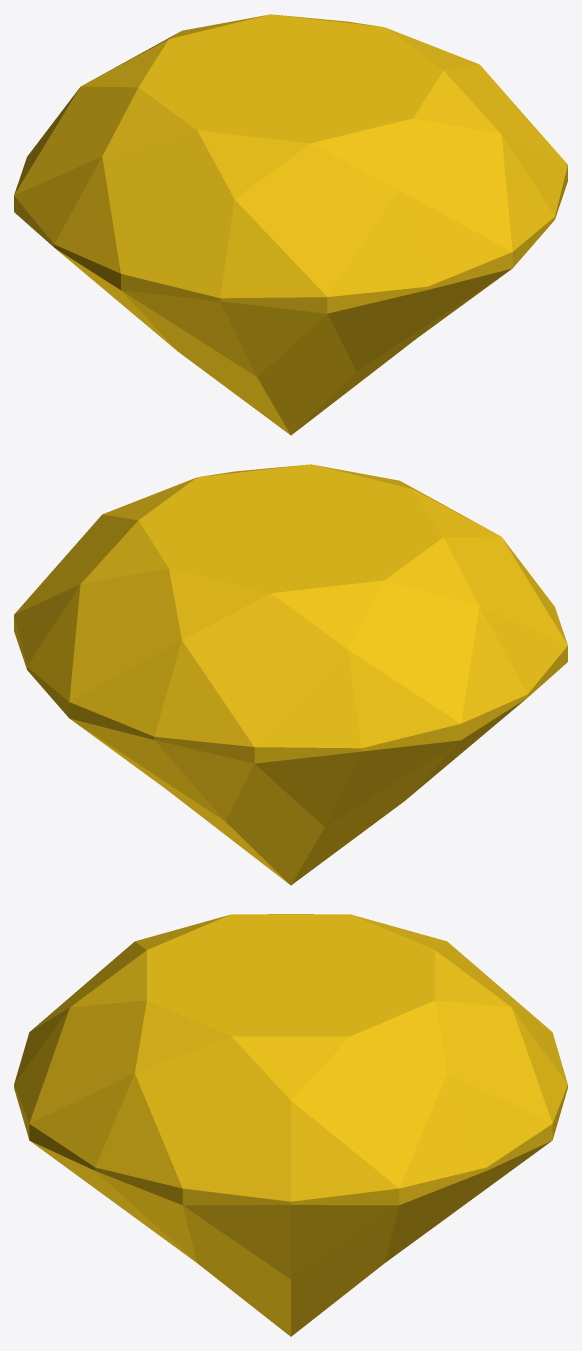
The model's file is yellowGem.fbx.
3 renders of one model, top to bottom at view 1: azimuth 30°, elevation 25°; view 2: azimuth 150°, elevation 25°; view 3: azimuth 270°, elevation 25°, orthographic.
Parts seen in each view (by area): view 1: Cylinder; view 2: Cylinder; view 3: Cylinder.
Part boxes in pixels (x1,y1,x2,y2): Cylinder: (14, 14, 567, 435); Cylinder: (14, 464, 567, 885); Cylinder: (14, 914, 567, 1336).
Bounding box in the file's own units: 78.74 × 56.72 × 78.74.
